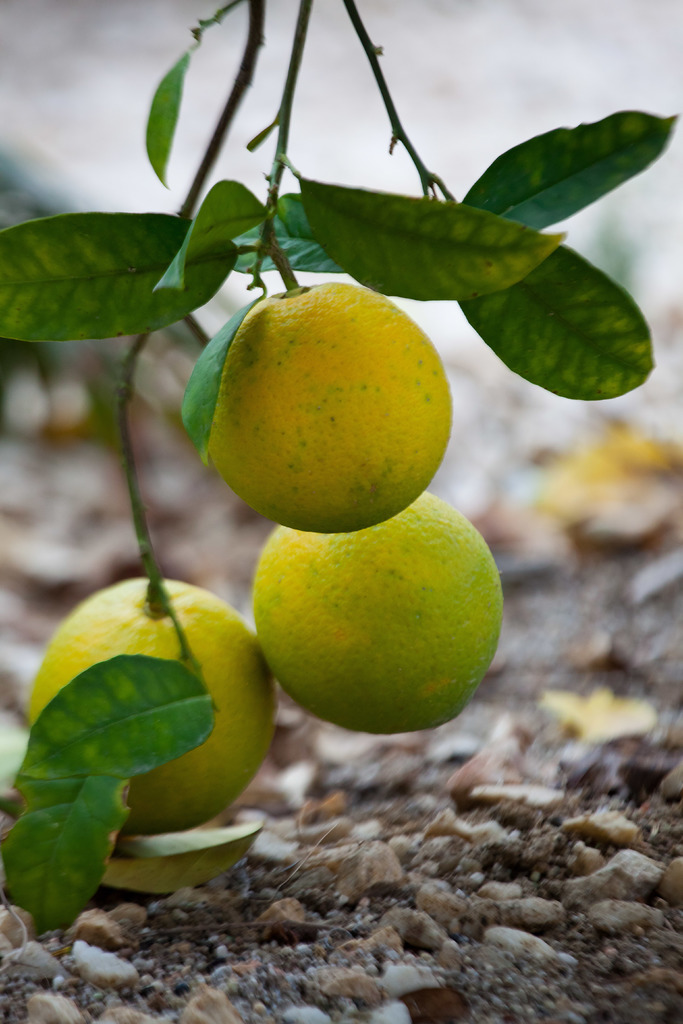Ripe: (26, 573, 270, 820), (248, 502, 503, 721), (213, 290, 451, 505)
